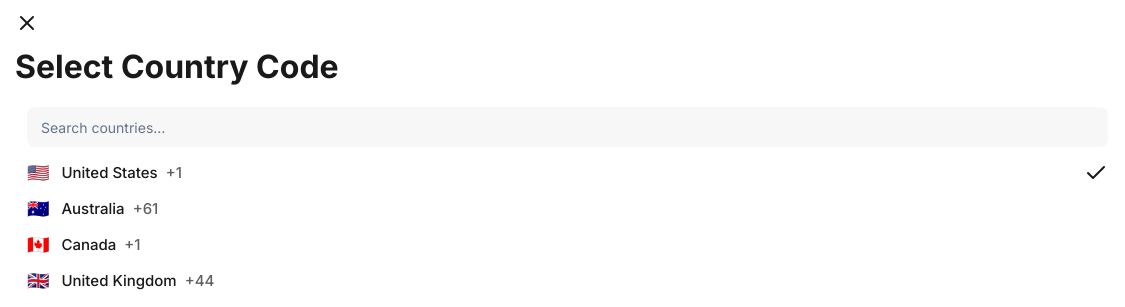
Test: CountryCodeDropdown › should filter countries by dial code
The image size is (1125, 307).
Type "+44" into the field with placeholder "Search countries..." at {"x": 568, "y": 127}, box x1=27 y1=107 x2=1108 y2=147
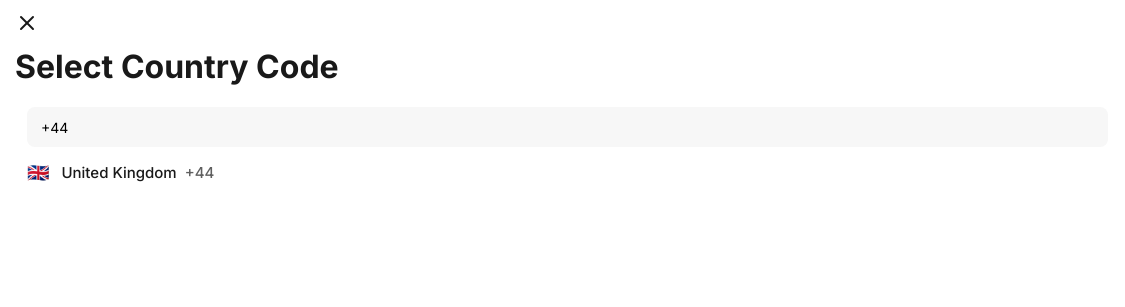
Expected: the text "United Kingdom" is shown, x1=62 y1=162 x2=177 y2=184
Expected: the button "United States" is gone
